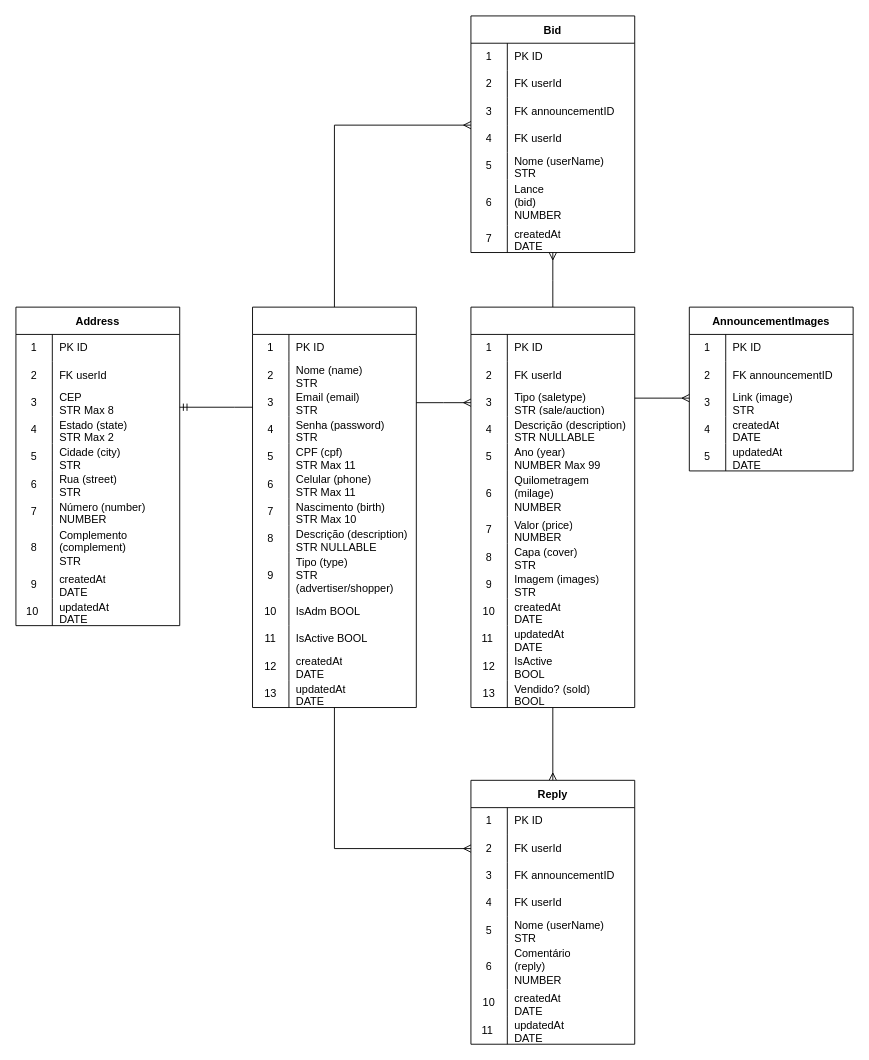
Image size: 869x1060. Some labels were removed from this diagram. Here are the shapes that lost their labels. From the top down, the box of each, then its label:
(252, 306, 416, 708): Users
(470, 306, 635, 708): Announcement
